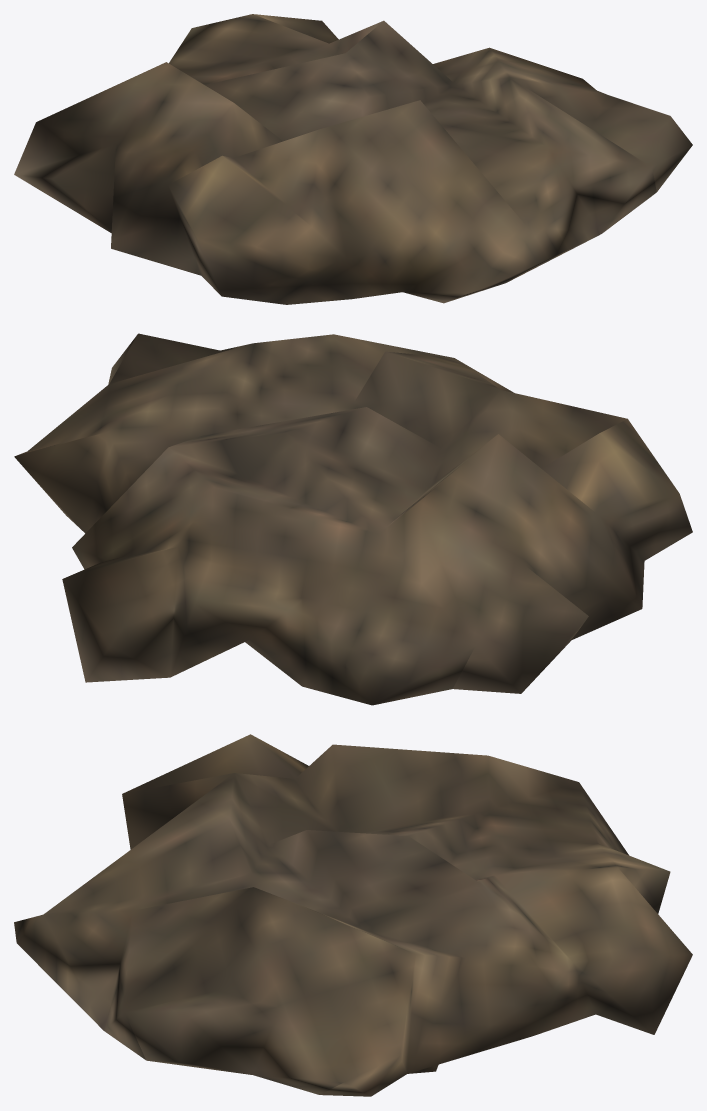
File: Rock01_03.FBX
3 renders of one model, top to bottom at view 1: azimuth 30°, elevation 25°; view 2: azimuth 150°, elevation 25°; view 3: azimuth 270°, elevation 25°, orthographic. The views are drawn at different scales.
Parts seen in each view (by area): view 1: Rock01_03; view 2: Rock01_03; view 3: Rock01_03.
Boxes of the visible parts, left/top/right/bottom form: Rock01_03: left=14, top=14, right=692, bottom=304; Rock01_03: left=14, top=333, right=692, bottom=705; Rock01_03: left=14, top=734, right=692, bottom=1096.
Bounding box in the file's own units: 305 × 88.44 × 304.
Materials: 1 (1 with a texture image).
